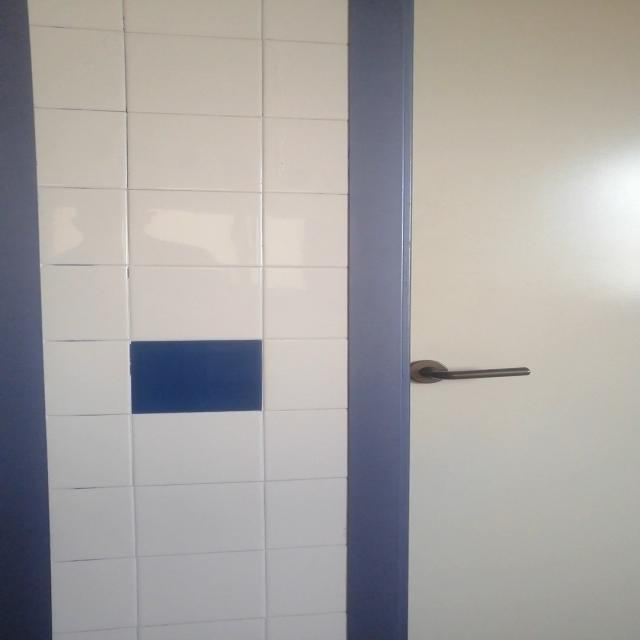door_handle: (411, 364, 534, 381)
